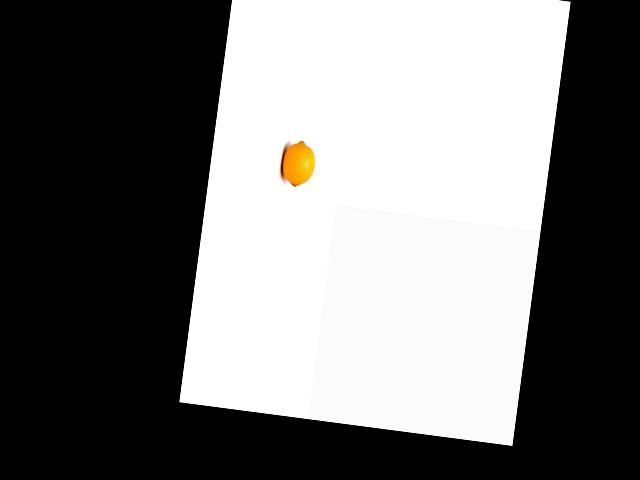lemon: (274, 134, 319, 188)
